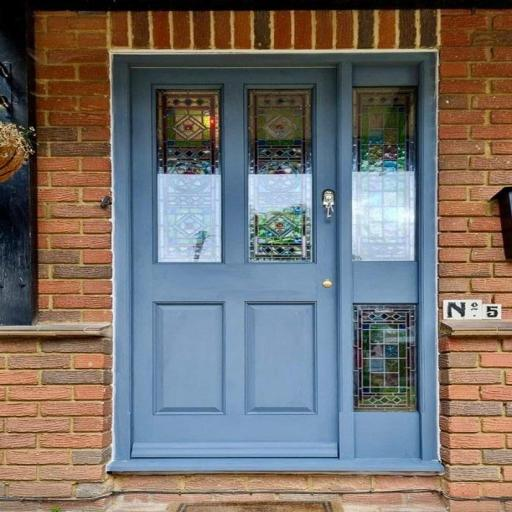door: (70, 44, 472, 512)
